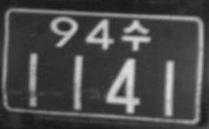1: (152, 60, 186, 116), (60, 54, 93, 111), (17, 52, 49, 108)
4: (105, 57, 140, 114), (84, 18, 114, 50)
9: (49, 14, 78, 47)
수: (121, 18, 151, 51)
